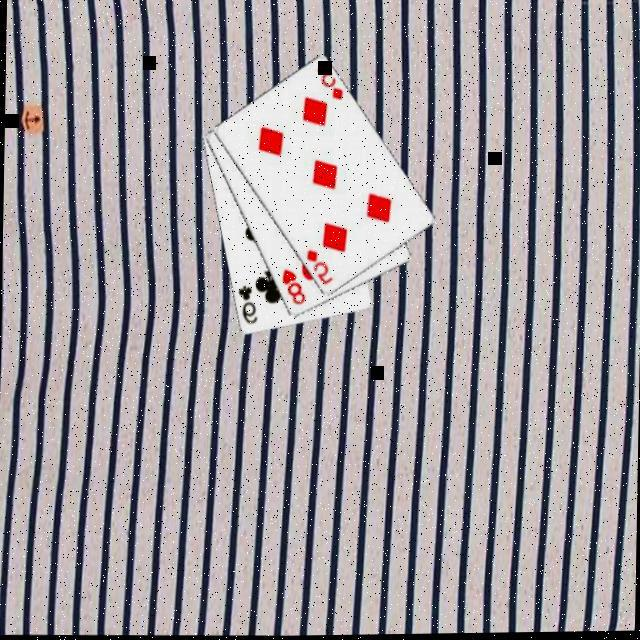5D: (313, 63, 346, 106), (304, 249, 337, 290)
6C: (234, 284, 261, 328)
8H: (279, 268, 309, 310)
